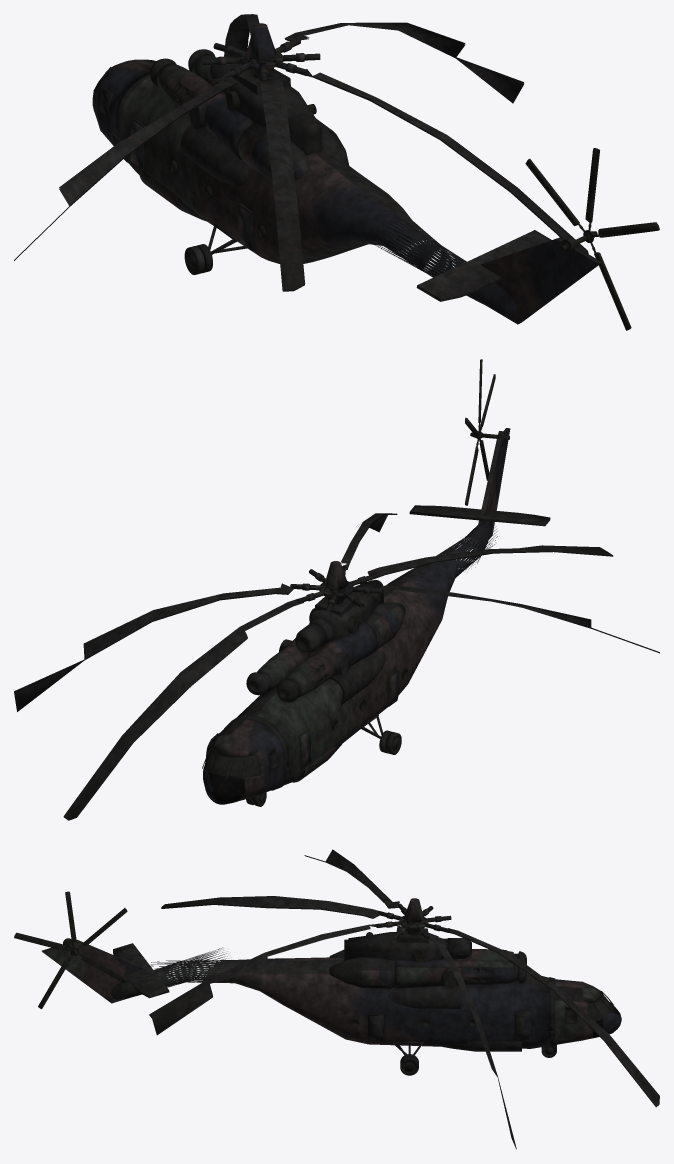
File: halo-wreck.glb
The picture shows the model from 3 angles, top to bottom: view 1: azimuth 30°, elevation 25°; view 2: azimuth 150°, elevation 25°; view 3: azimuth 270°, elevation 25°; orthographic projection. The views are drawn at different scales.
Visible parts, largest first — view 1: hull, rotor; view 2: hull, rotor; view 3: hull, rotor.
Part boxes in pixels (left/top/right/bottom): hull: left=92, top=41, right=659, bottom=330; rotor: left=14, top=14, right=588, bottom=291; hull: left=202, top=359, right=550, bottom=806; rotor: left=14, top=513, right=659, bottom=820; hull: left=14, top=891, right=621, bottom=1075; rotor: left=149, top=849, right=659, bottom=1149.
Size of the model in its own units: 31.03 by 12.57 by 39.1.
Materials: 1 (1 with a texture image).
